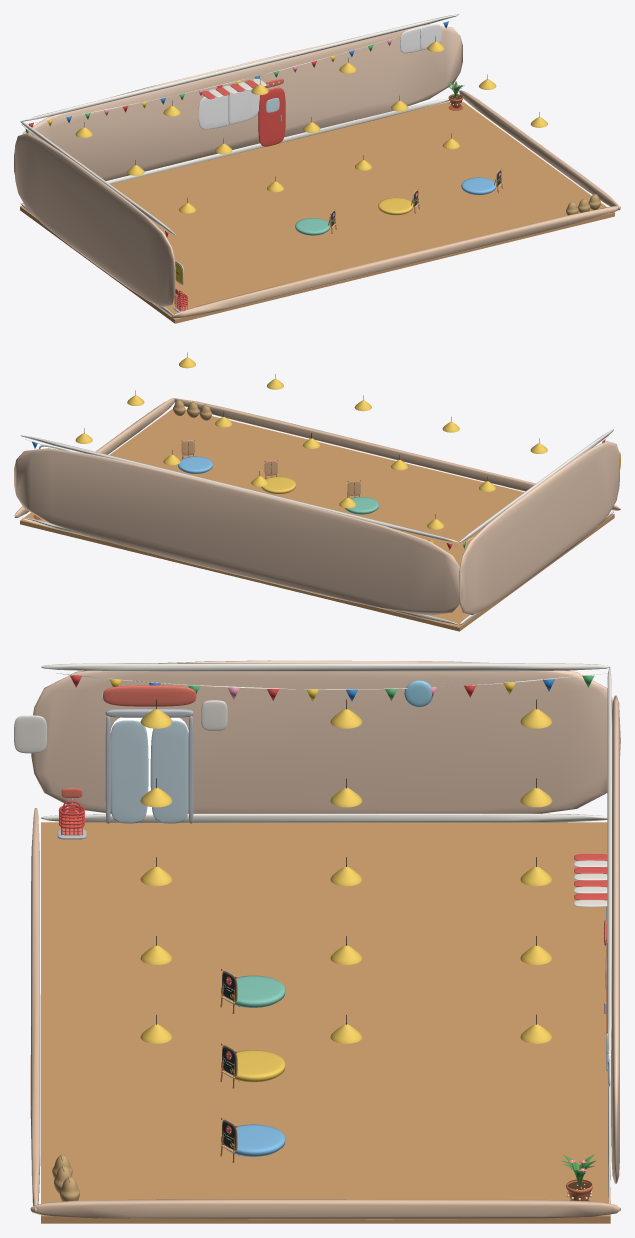
Rendered from tienda3_base.glb.
3 renders of one model, top to bottom at view 1: azimuth 30°, elevation 25°; view 2: azimuth 150°, elevation 25°; view 3: azimuth 270°, elevation 25°, orthographic. The views are drawn at different scales.
Visible parts, largest first — view 1: piso.002, pared fondo.002, pared izquierda.002, muro bajo frente.002, cornisa fondo.002, muro bajo derecha.002, marco.005, zócalo fondo.002, puerta.002, marco.006, cornisa izquierda.002, tarima oferta.004 (+2 smaller); view 2: pared fondo.002, piso.002, pared izquierda.002, muro bajo frente.002, cornisa fondo.002, muro bajo derecha.002, cornisa izquierda.002, tarima oferta.005, tarima oferta.004, zócalo fondo.002, tarima oferta.003; view 3: piso.002, pared izquierda.002, muro bajo derecha.002, cornisa izquierda.002, zócalo izquierdo.002, pared fondo.002, hoja puerta.004, muro bajo frente.002, hoja puerta.005, cornisa fondo.002, letrero.005, tarima oferta.004 (+4 smaller).
Boxes of the visible parts, left/top/right/bottom form: piso.002: left=20, top=101, right=614, bottom=323; pared fondo.002: left=14, top=24, right=462, bottom=180; pared izquierda.002: left=14, top=133, right=175, bottom=307; muro bajo frente.002: left=171, top=206, right=620, bottom=318; cornisa fondo.002: left=20, top=14, right=458, bottom=121; muro bajo derecha.002: left=459, top=90, right=620, bottom=210; marco.005: left=198, top=87, right=259, bottom=129; zócalo fondo.002: left=21, top=98, right=449, bottom=204; puerta.002: left=258, top=87, right=285, bottom=146; marco.006: left=400, top=24, right=441, bottom=53; cornisa izquierda.002: left=20, top=121, right=175, bottom=235; tarima oferta.004: left=378, top=197, right=413, bottom=215; pared fondo.002: left=14, top=448, right=462, bottom=615; piso.002: left=20, top=409, right=614, bottom=631; pared izquierda.002: left=459, top=441, right=619, bottom=614; muro bajo frente.002: left=174, top=398, right=620, bottom=510; cornisa fondo.002: left=20, top=435, right=458, bottom=542; muro bajo derecha.002: left=14, top=398, right=174, bottom=517; cornisa izquierda.002: left=459, top=429, right=613, bottom=542; tarima oferta.005: left=177, top=456, right=212, bottom=473; tarima oferta.004: left=261, top=476, right=295, bottom=494; zócalo fondo.002: left=21, top=517, right=458, bottom=625; tarima oferta.003: left=344, top=497, right=378, bottom=514; piso.002: left=41, top=822, right=610, bottom=1223; pared izquierda.002: left=31, top=660, right=620, bottom=813; muro bajo derecha.002: left=30, top=1199, right=620, bottom=1219; cornisa izquierda.002: left=41, top=662, right=610, bottom=671; zócalo izquierdo.002: left=41, top=813, right=607, bottom=822; pared fondo.002: left=611, top=695, right=619, bottom=1183; hoja puerta.004: left=110, top=720, right=148, bottom=823; muro bajo frente.002: left=30, top=808, right=40, bottom=1212; hoja puerta.005: left=150, top=720, right=188, bottom=823; cornisa fondo.002: left=607, top=666, right=612, bottom=1060; letrero.005: left=103, top=685, right=196, bottom=706; tarima oferta.004: left=221, top=1050, right=285, bottom=1082.
Size of the model in its own units: 18.39 by 3.61 by 11.72.
